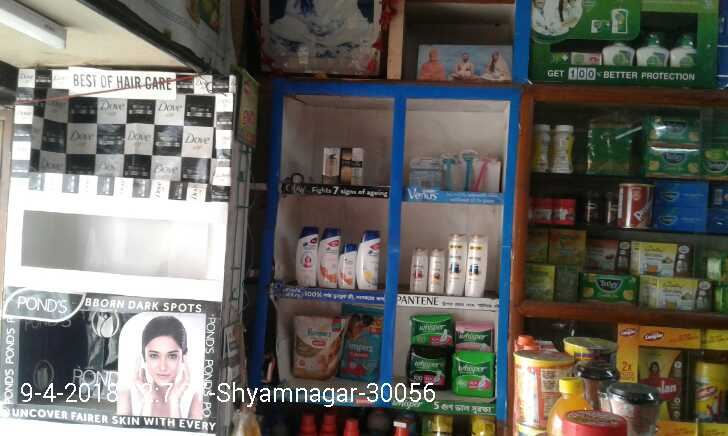venus: (408, 157, 441, 189), (474, 156, 496, 192), (442, 156, 455, 191), (462, 150, 472, 191)
